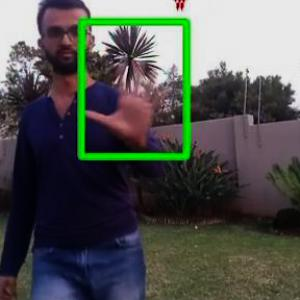follow_hand: (79, 53, 176, 144)
